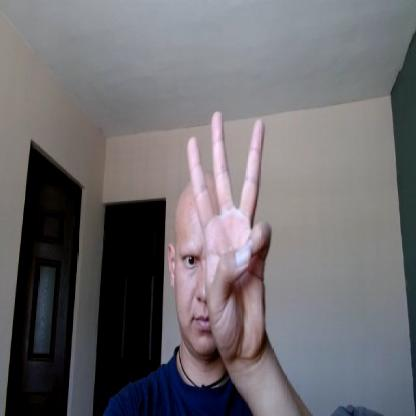W: (186, 108, 271, 359)
